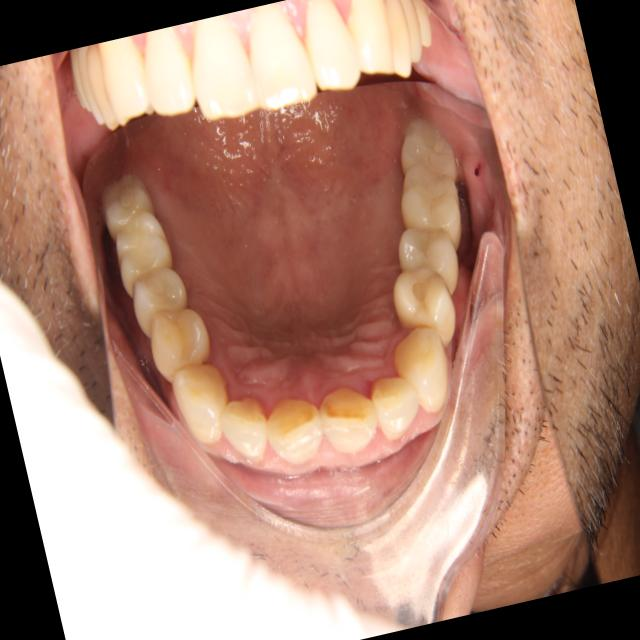tooth: (377, 309, 466, 427), (384, 152, 474, 267), (383, 211, 473, 310), (381, 255, 468, 356), (307, 368, 391, 470), (164, 347, 243, 454), (383, 103, 471, 199), (137, 296, 224, 390), (119, 254, 204, 349), (103, 209, 187, 301), (258, 385, 336, 477), (361, 357, 434, 450), (210, 385, 284, 475), (86, 166, 165, 246)
